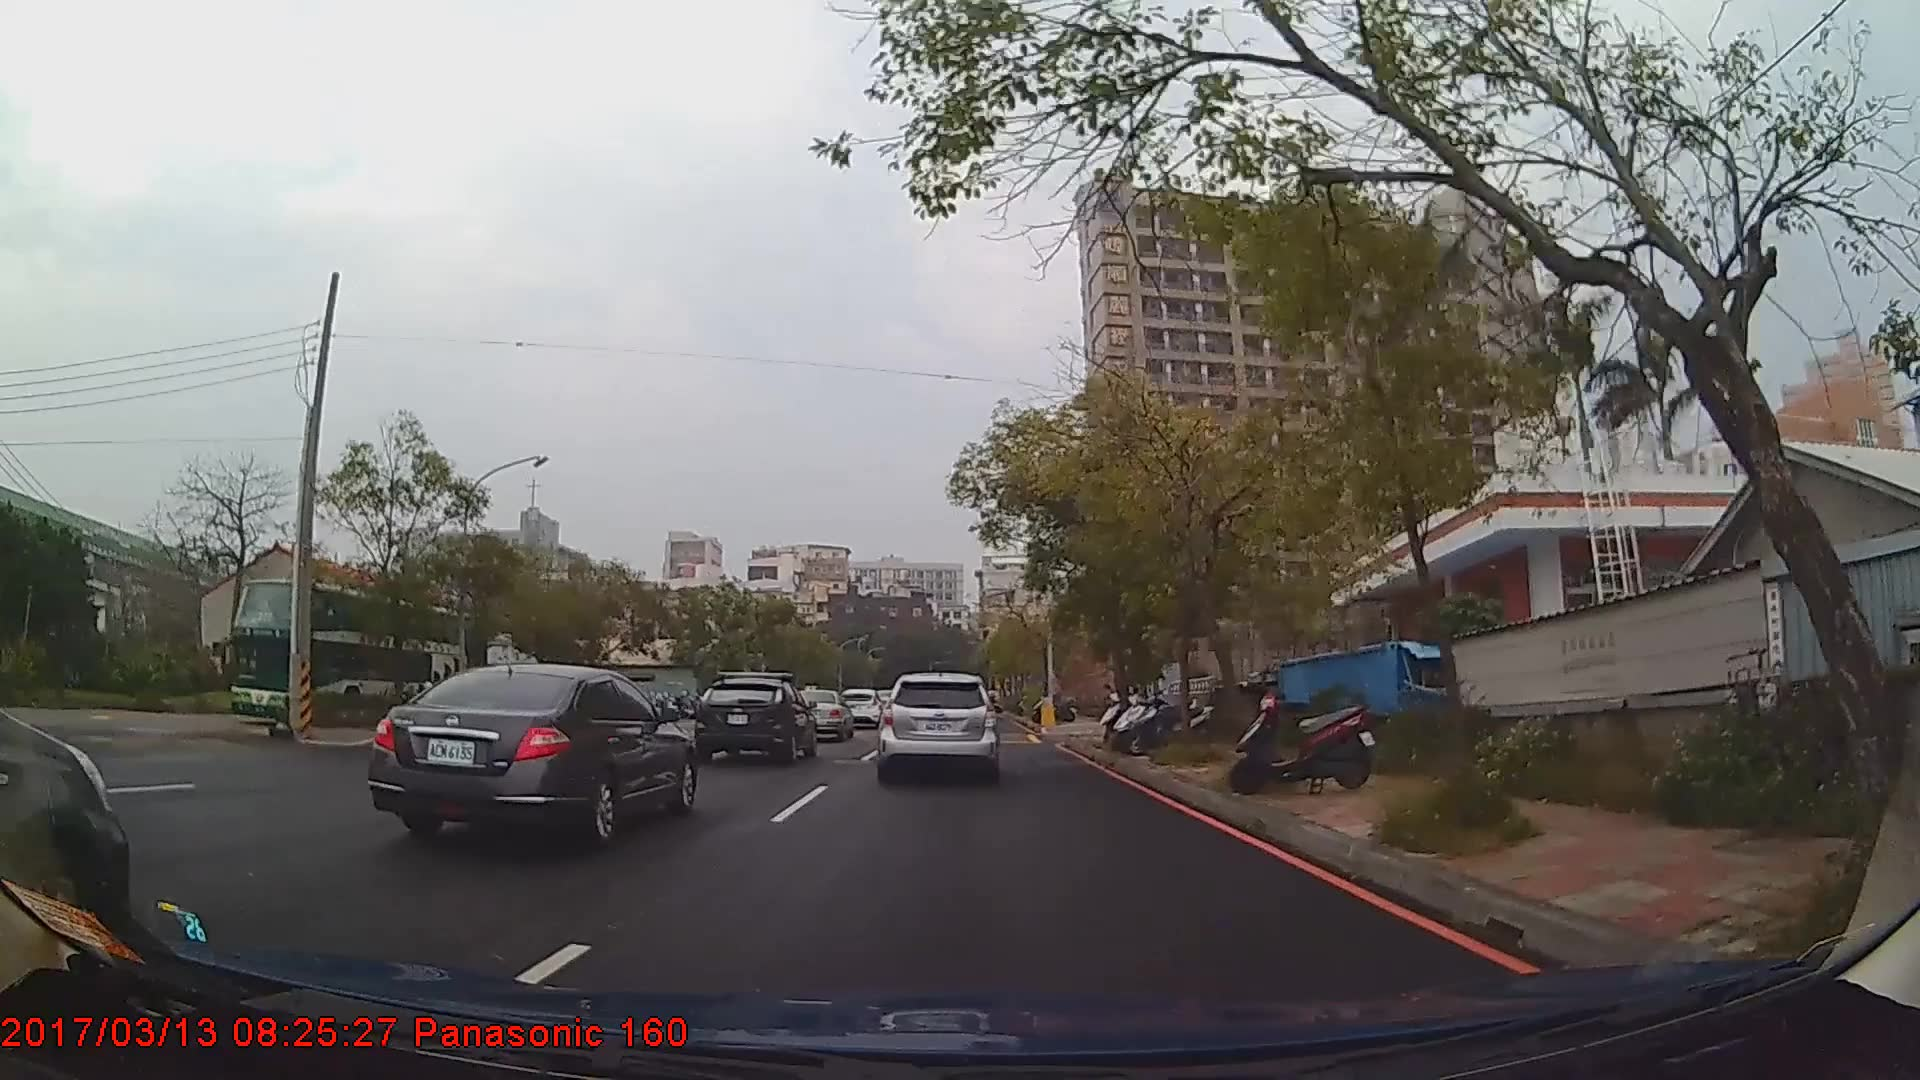vehicle: (368, 661, 696, 845), (225, 578, 462, 736), (877, 667, 998, 778), (694, 669, 816, 764), (793, 684, 853, 738), (837, 686, 884, 727)
